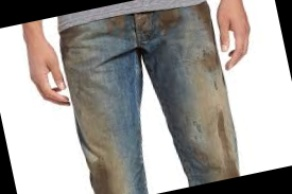earth: (213, 111, 240, 176), (89, 165, 116, 194), (194, 1, 212, 30), (157, 9, 179, 30), (104, 17, 127, 37), (199, 49, 220, 70)
